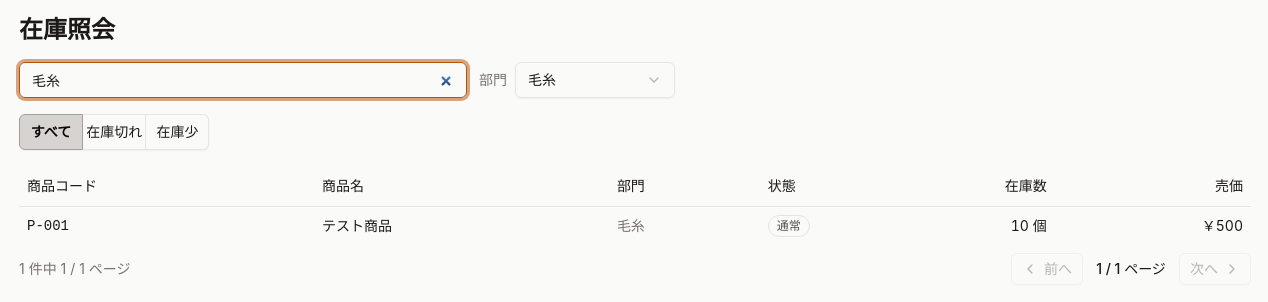
StockInquiryPage SPEC-UIBB-9（部門候補 loading / error 結線） › SPEC-UIBB-9 部門選択中も他部門へ直接切替できる
The image size is (1268, 302).
Check: the text "P-001" is shown, box x1=19 y1=206 x2=314 y2=244
Click the dropdown.
click(595, 80)  # box x1=515 y1=62 x2=675 y2=98
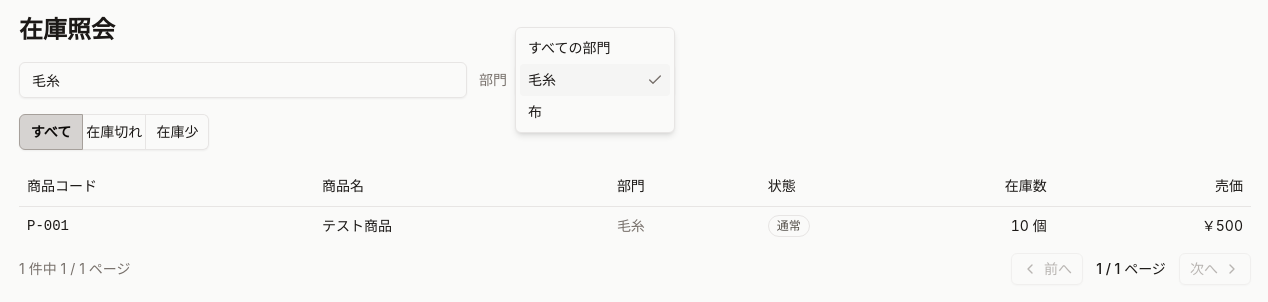
Check: the option "布" is shown, box x1=528 y1=103 x2=542 y2=120
